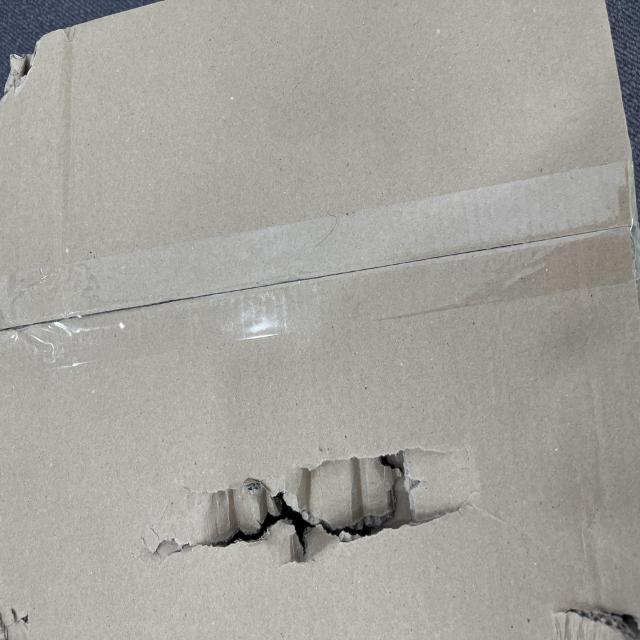damaged: (63, 255, 147, 557)
